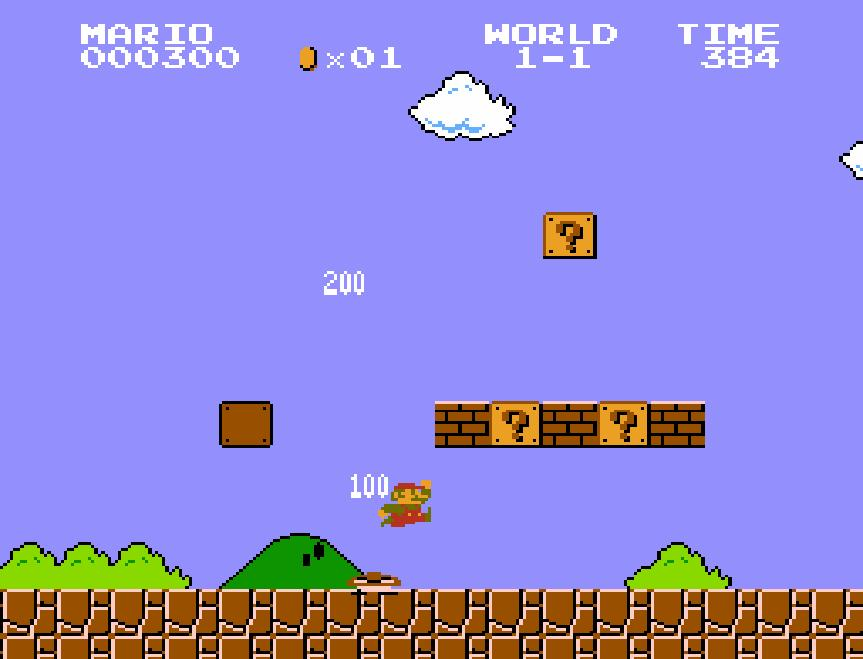little_mario: (376, 479, 434, 529)
